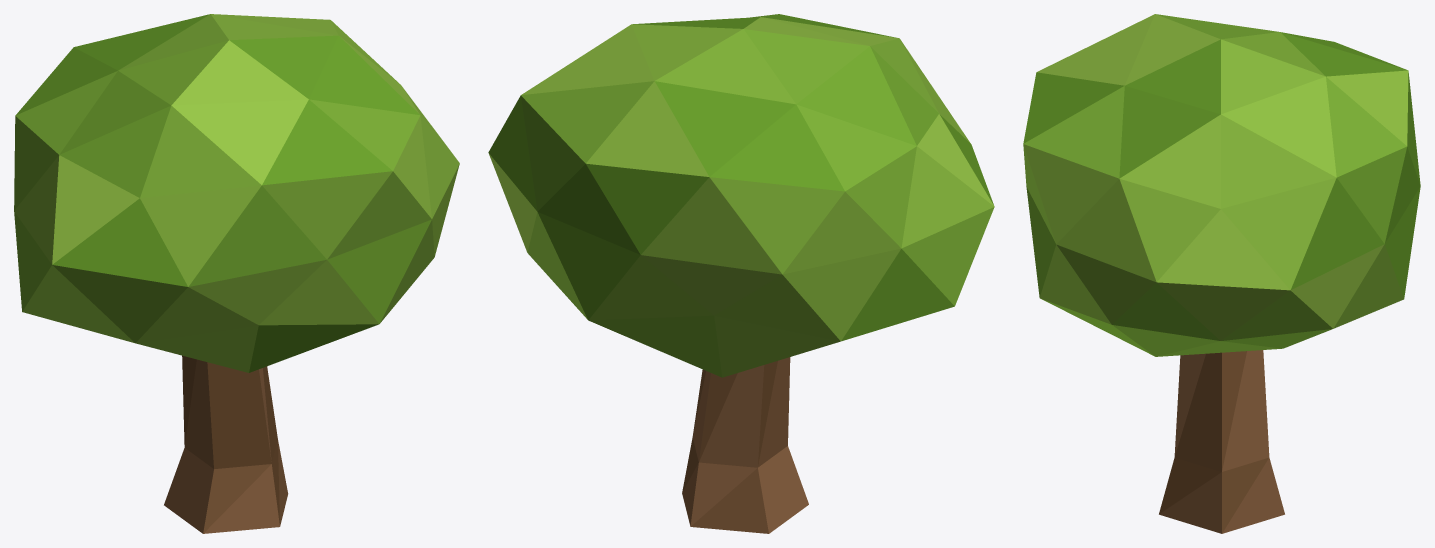
File: Umbrella.fbx
3 views of the same model, side by side, from view 1: azimuth 30°, elevation 25°; view 2: azimuth 150°, elevation 25°; view 3: azimuth 270°, elevation 25° (orthographic). The views are drawn at different scales.
Visible parts, largest first — view 1: Asset_Umbrella; view 2: Asset_Umbrella; view 3: Asset_Umbrella.
Part boxes in pixels (x1,y1,x2,y2): Asset_Umbrella: (14,14,459,533); Asset_Umbrella: (488,14,994,533); Asset_Umbrella: (1023,14,1420,533).
Size of the model in its own units: 3.46 by 3.63 by 2.81.
